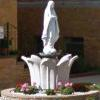Statue: (33, 2, 73, 77)
